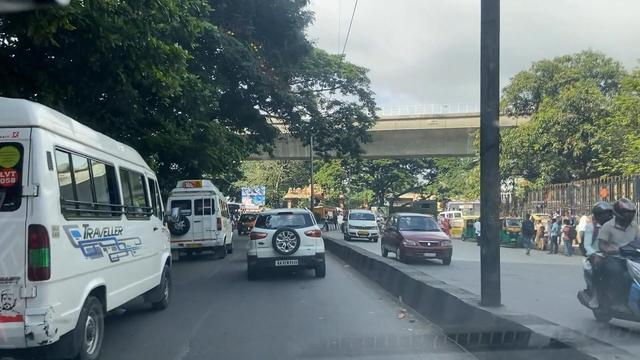HMV: (4, 102, 172, 351), (166, 187, 233, 263)
LMV: (246, 213, 323, 266)
